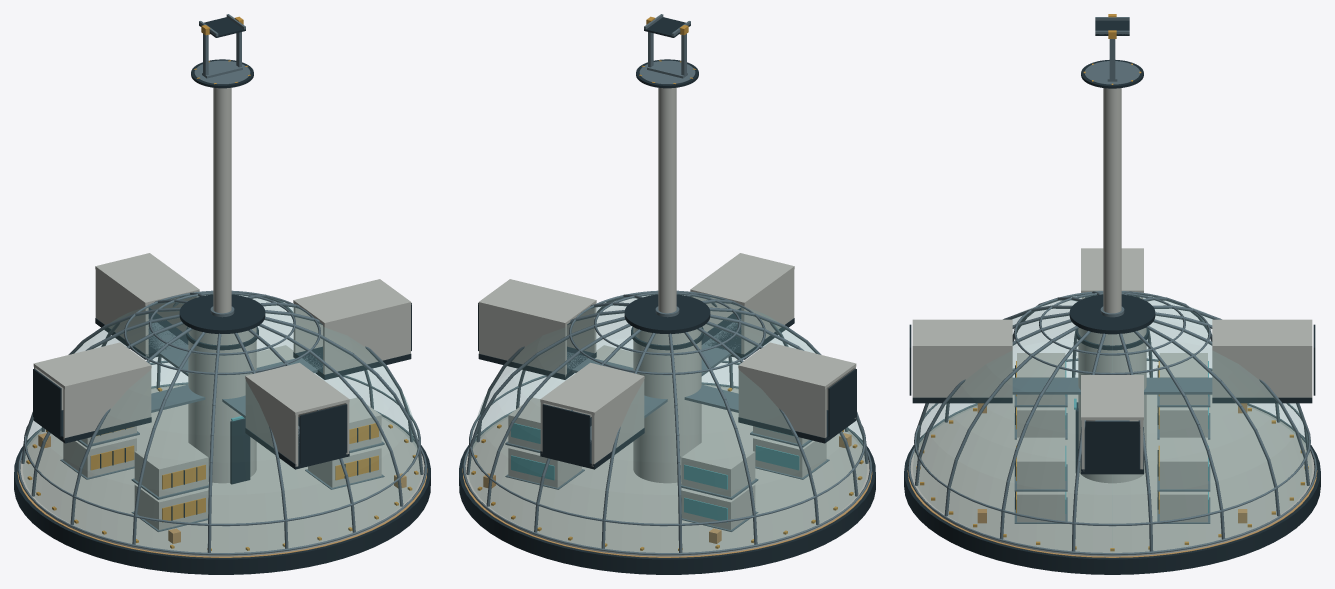
The model's file is habitat_d0_lod0.glb.
The picture shows the model from 3 angles, left to right: view 1: azimuth 30°, elevation 25°; view 2: azimuth 150°, elevation 25°; view 3: azimuth 270°, elevation 25°; orthographic projection.
Parts seen in each view (by area): view 1: BODY, SHELL, PORT_CAP_N, PORT_CAP_W, FORK, CRADLE; view 2: BODY, SHELL, PORT_CAP_S, PORT_CAP_W, FORK, CRADLE; view 3: BODY, SHELL, PORT_CAP_E, CRADLE.
Part boxes in pixels (box(x1,y1,x2,y2)): BODY: box(14, 59, 430, 574); SHELL: box(23, 294, 420, 552); PORT_CAP_N: box(299, 404, 347, 463); PORT_CAP_W: box(33, 368, 61, 436); FORK: box(201, 16, 243, 78); CRADLE: box(199, 14, 245, 37); BODY: box(459, 59, 875, 574); SHELL: box(469, 294, 866, 552); PORT_CAP_S: box(542, 404, 590, 463); PORT_CAP_W: box(828, 368, 856, 436); FORK: box(646, 16, 688, 78); CRADLE: box(644, 14, 690, 37); BODY: box(904, 60, 1320, 574); SHELL: box(913, 295, 1311, 552); PORT_CAP_E: box(1085, 421, 1139, 469); CRADLE: box(1095, 17, 1129, 35).
Bounding box in the file's own units: 29.2 × 35.85 × 29.2.
